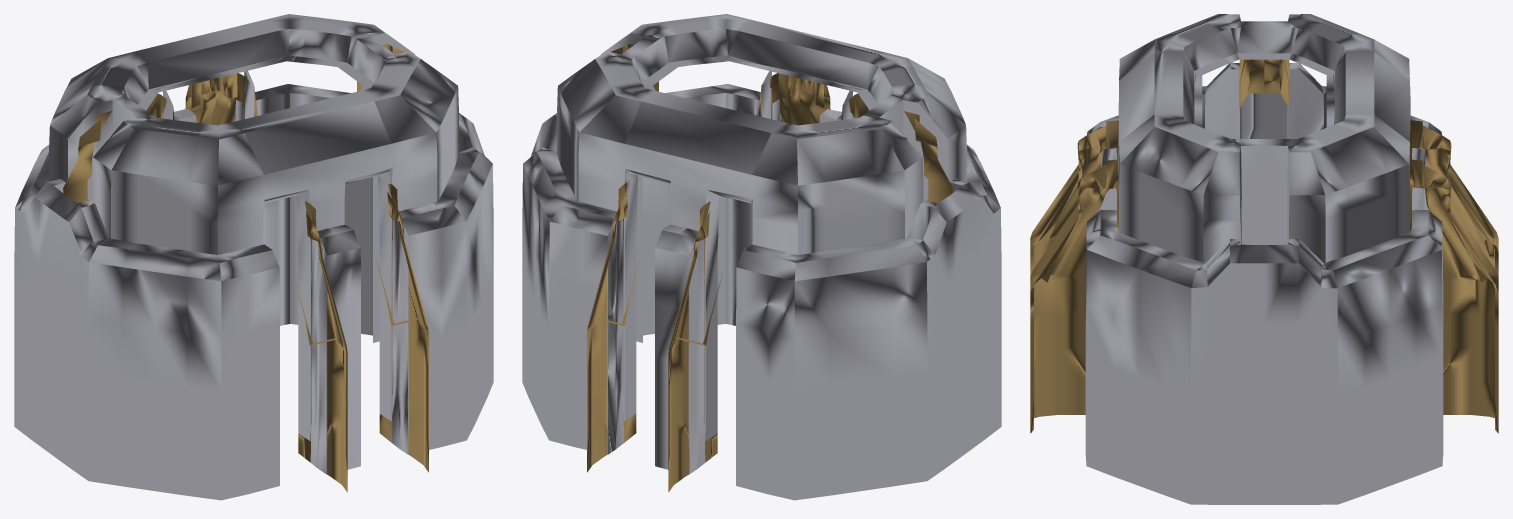
The model's file is transit_track_support_tow_base.glb.
3 views of the same model, side by side, from view 1: azimuth 30°, elevation 25°; view 2: azimuth 150°, elevation 25°; view 3: azimuth 270°, elevation 25° (orthographic).
Bounding box in the file's own units: 12.94 × 10 × 13.08.
